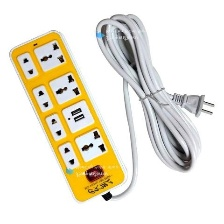three_eye_plug: (6, 28, 129, 209)
